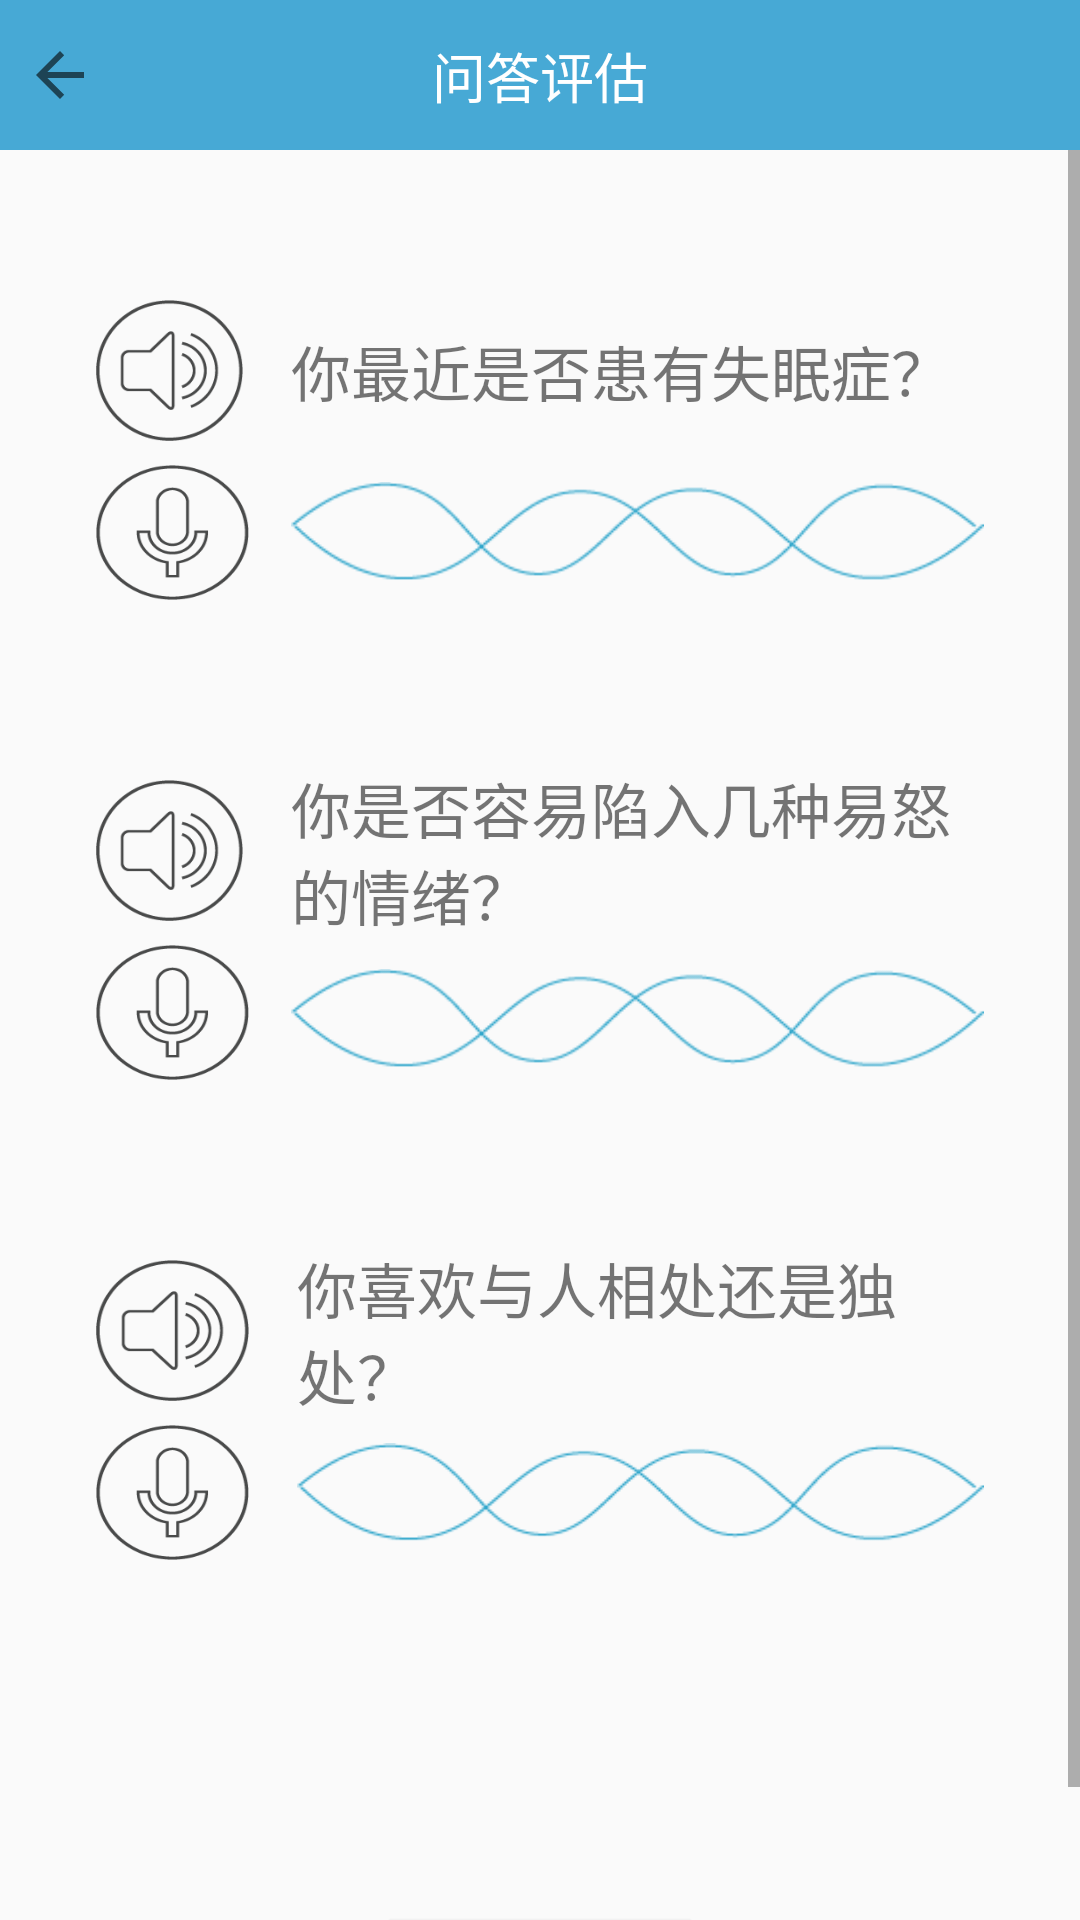

Where icons sit on this 1080 × 1920 app screen, as (x1, y1, x2, y2):
microphone: (96, 465, 249, 600), (96, 945, 249, 1080), (96, 1425, 249, 1560)
